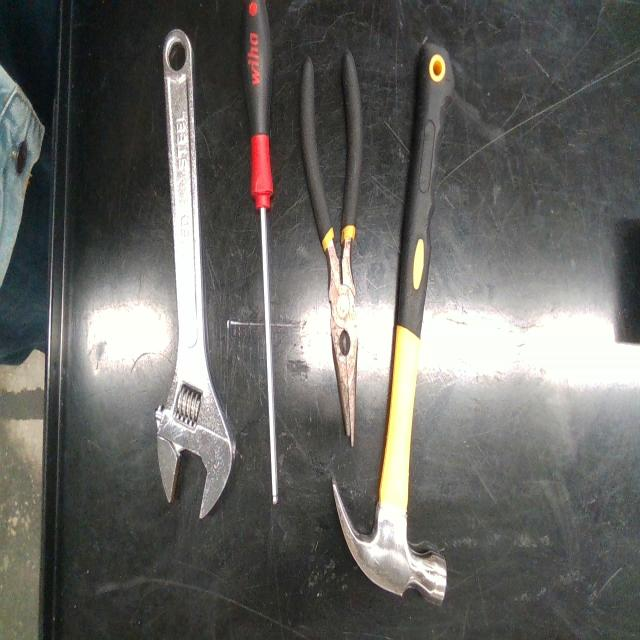Screwdriver: (242, 0, 278, 503)
